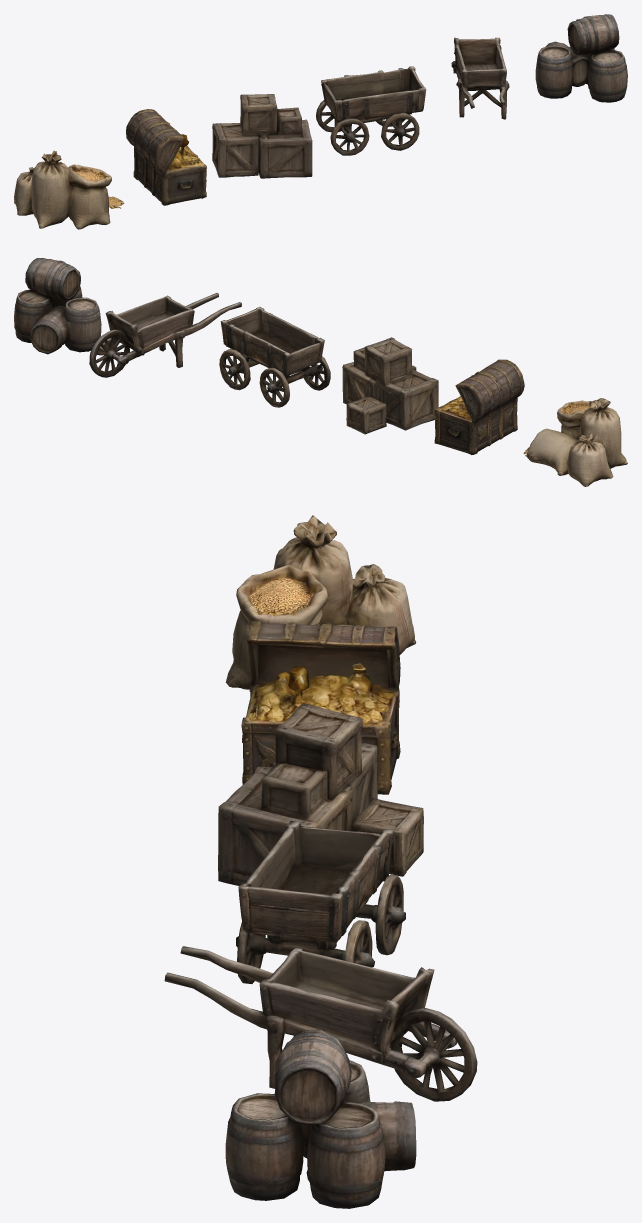
File: props_town.glb
3 views of the same model, one above another, from view 1: azimuth 30°, elevation 25°; view 2: azimuth 150°, elevation 25°; view 3: azimuth 270°, elevation 25° (orthographic). The views are drawn at different scales.
Visible parts, largest first — view 1: crates, wagon, barrels, sacks, chest, handcart; view 2: wagon, crates, barrels, sacks, chest, handcart; view 3: barrels, handcart, crates, wagon, chest, sacks.
Part boxes in pixels (x1,y1,x2,y2): crates: (212, 94, 312, 178); wagon: (316, 66, 426, 155); barrels: (535, 14, 627, 102); sacks: (14, 150, 124, 229); chest: (126, 109, 206, 205); handcart: (451, 37, 509, 119); wagon: (219, 307, 330, 407); crates: (342, 337, 438, 434); barrels: (14, 258, 101, 354); sacks: (523, 398, 627, 486); chest: (434, 359, 524, 454); handcart: (89, 293, 241, 377); barrels: (225, 1029, 416, 1208); handcart: (164, 946, 477, 1101); crates: (218, 703, 423, 885); wagon: (236, 820, 405, 983); chest: (241, 621, 400, 794); sacks: (225, 515, 416, 689).
Size of the model in its own units: 1.98 by 0.2255 by 0.4512.
1 material, 1 textured.
